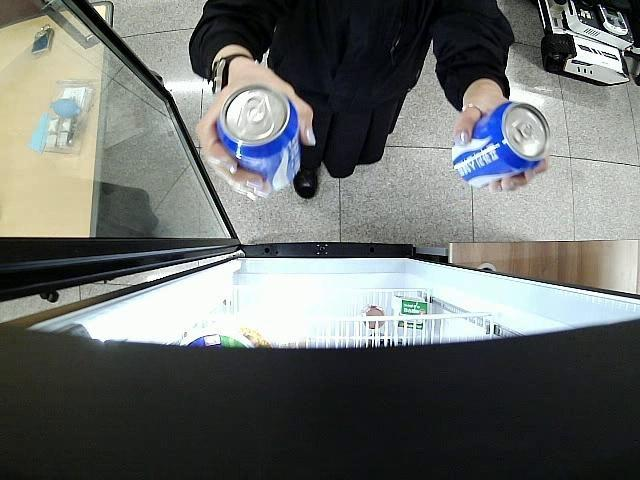13_pocariSweat: (217, 86, 302, 194), (450, 101, 551, 188)
